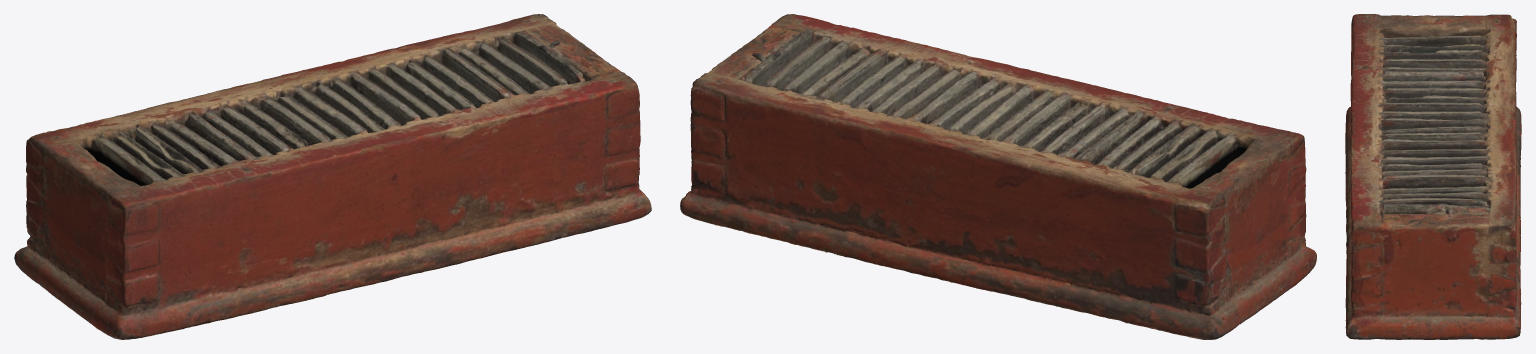
The model's file is henry-trough-battery-b8c285ffd5.glb.
3 renders of one model, left to right at view 1: azimuth 30°, elevation 25°; view 2: azimuth 150°, elevation 25°; view 3: azimuth 270°, elevation 25°, orthographic. The views are drawn at different scales.
Bounding box in the file's own units: 0.1994 × 0.0505 × 0.0682.
1 material, 1 textured.
